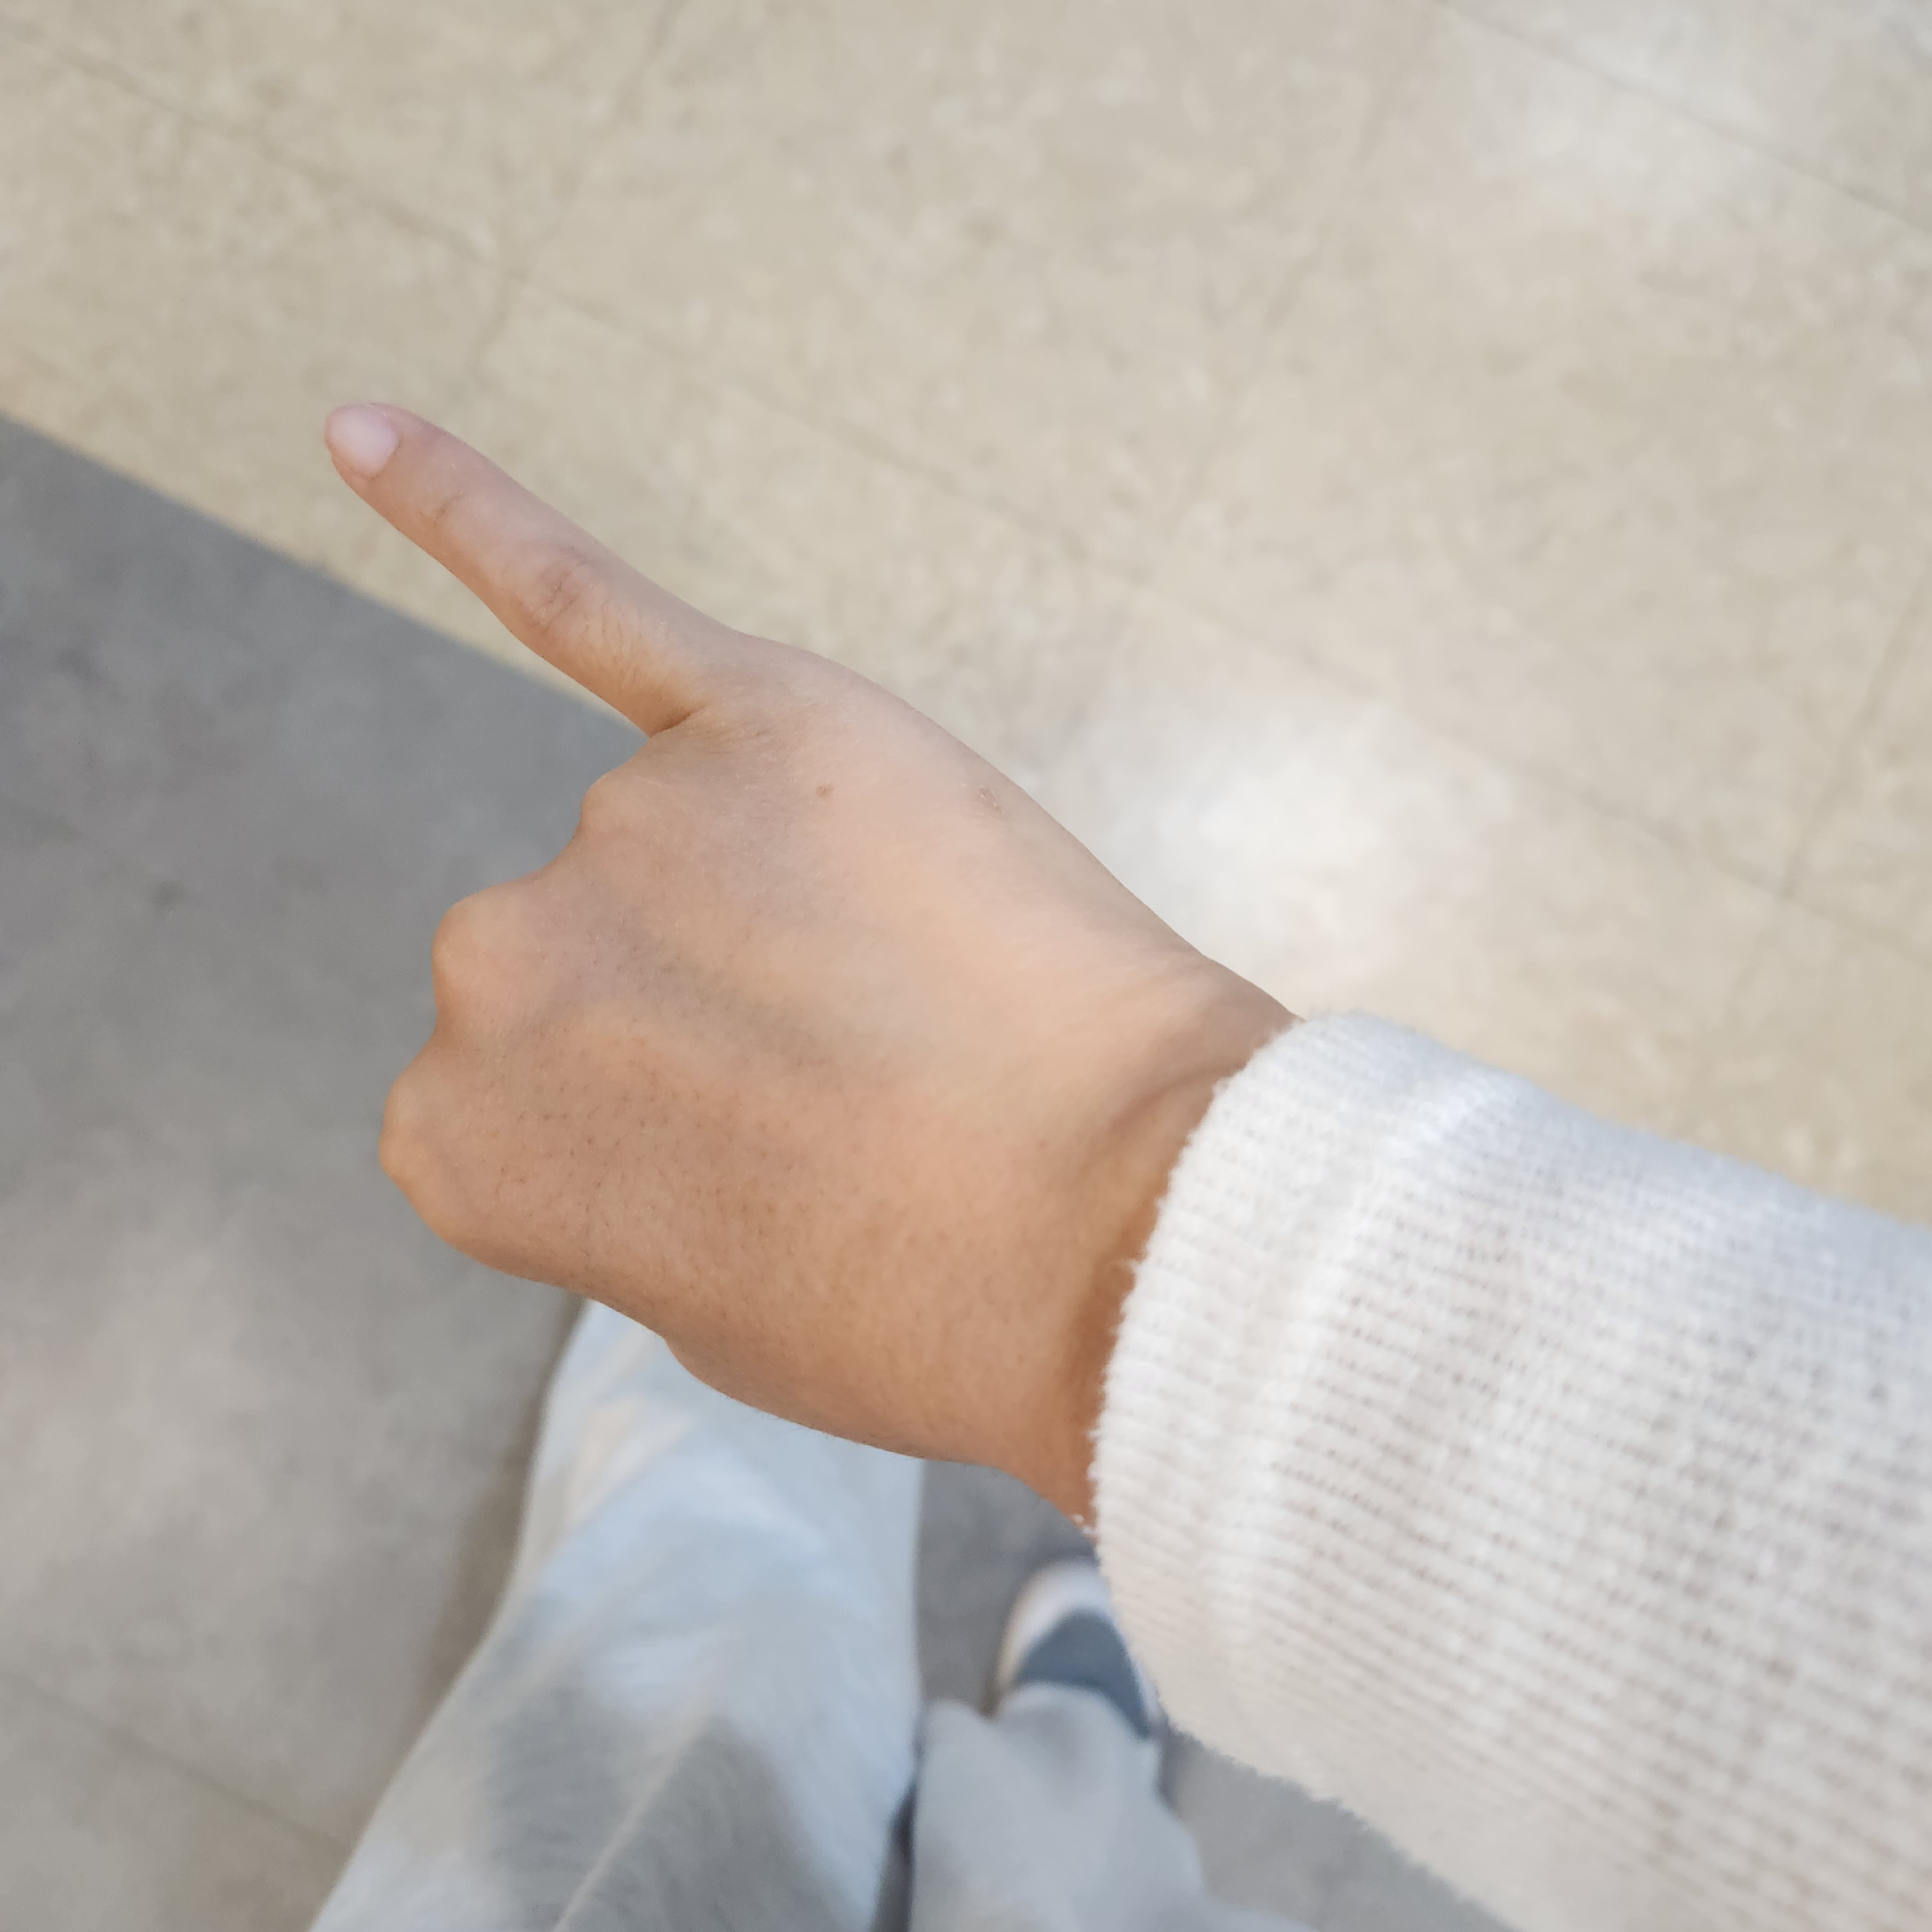fine: (320, 402, 1155, 1465)
